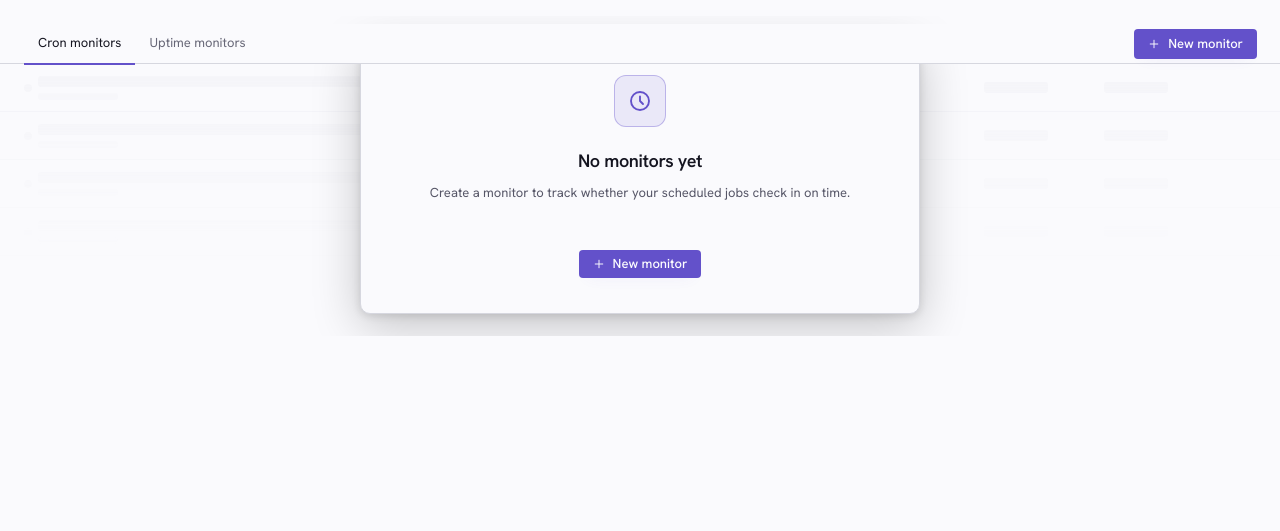
Test case: CronMonitorsView › create form › toggles the create form when clicking "New monitor"
Click the button with class "btn--primary" in the row of "Uptime monitors".
click(1196, 44)  # box [1135,30,1256,58]
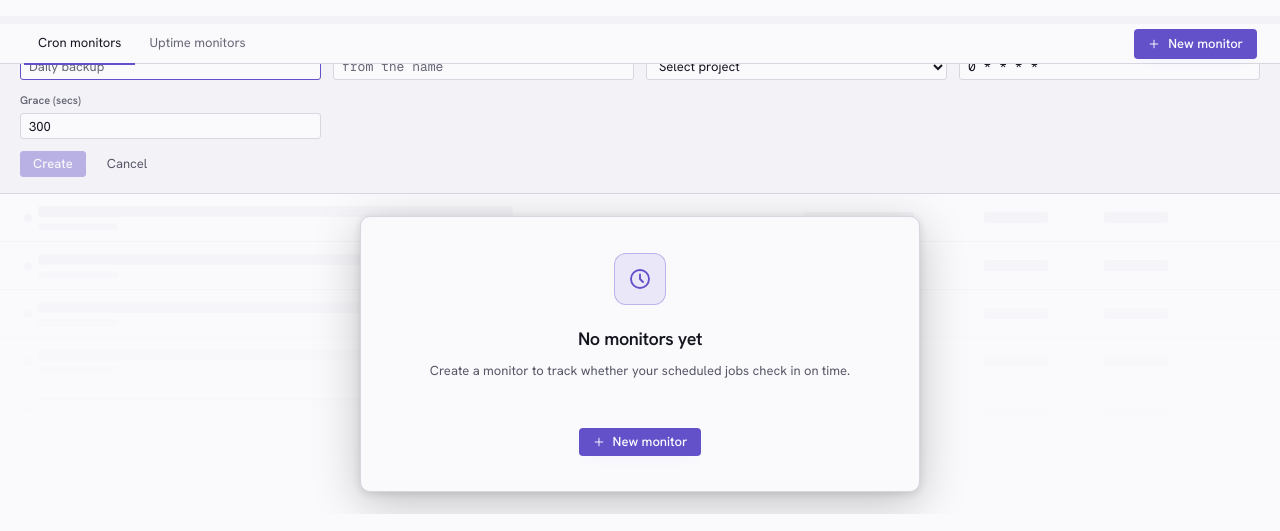
Expected: the element with class "mon-createbar" is shown, [0,16,1279,194]
